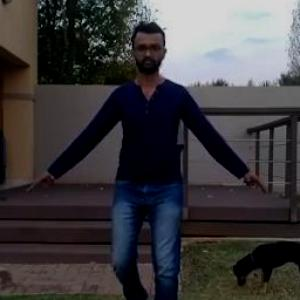land: (59, 37, 240, 299)
